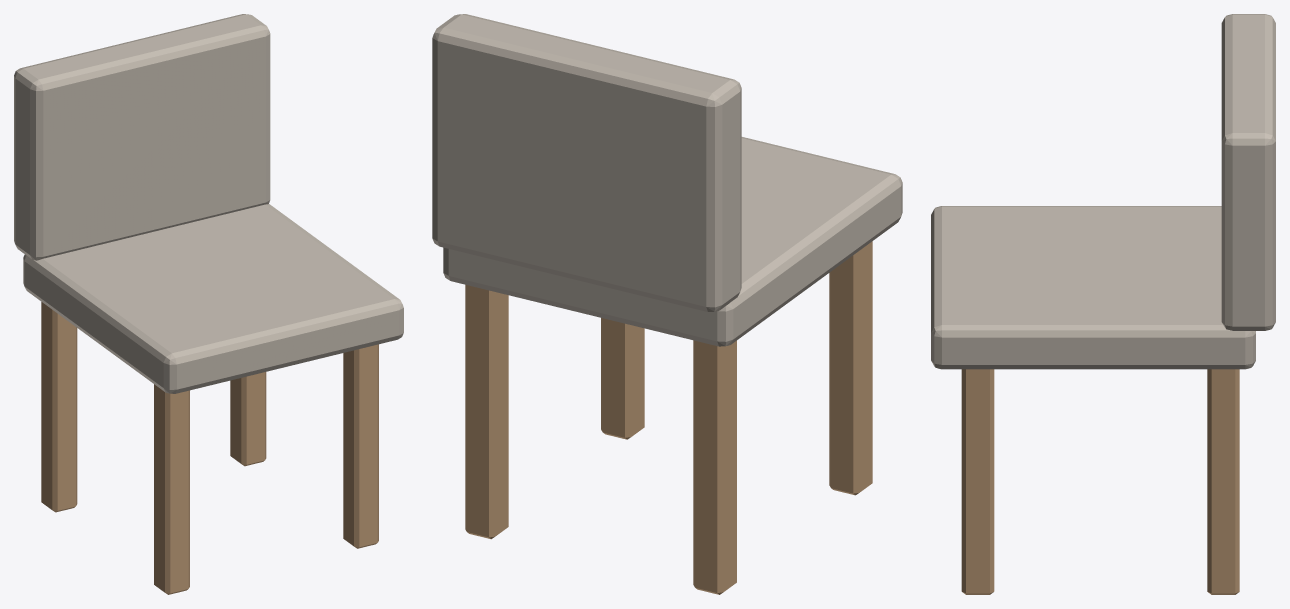
File: medium.glb
3 renders of one model, left to right at view 1: azimuth 30°, elevation 25°; view 2: azimuth 150°, elevation 25°; view 3: azimuth 270°, elevation 25°, orthographic. The views are drawn at different scales.
Parts seen in each view (by area): view 1: dining-chair-medium; view 2: dining-chair-medium; view 3: dining-chair-medium.
Part boxes in pixels (x1,y1,x2,y2): dining-chair-medium: (14,14,403,594); dining-chair-medium: (432,14,902,594); dining-chair-medium: (931,14,1275,594).
Size of the model in its own units: 0.48 by 0.82 by 0.55.
